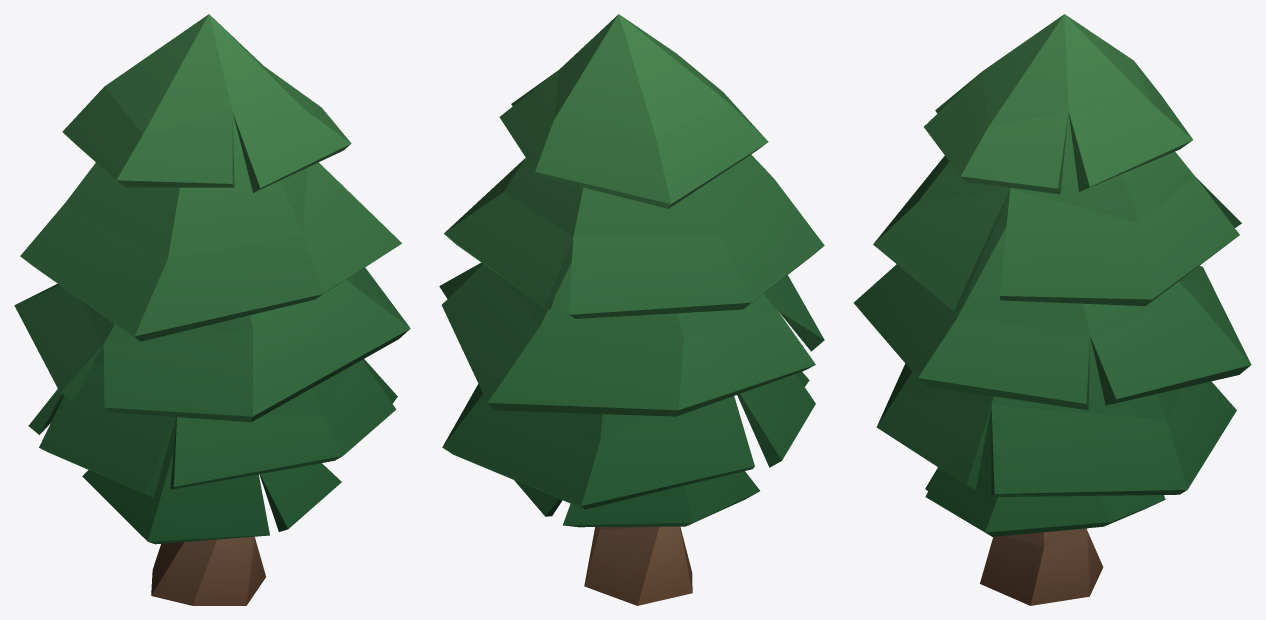
File: tree_spruce_green.fbx
3 renders of one model, left to right at view 1: azimuth 30°, elevation 25°; view 2: azimuth 150°, elevation 25°; view 3: azimuth 270°, elevation 25°, orthographic. The views are drawn at different scales.
Parts seen in each view (by area): view 1: tree_spruce_green; view 2: tree_spruce_green; view 3: tree_spruce_green.
Boxes of the visible parts, bbox=[...] form: tree_spruce_green: bbox=[14, 14, 410, 605]; tree_spruce_green: bbox=[439, 14, 824, 605]; tree_spruce_green: bbox=[853, 14, 1251, 605].
Bounding box in the file's own units: 5.3 × 8.4 × 5.3.
1 material, 1 textured.
